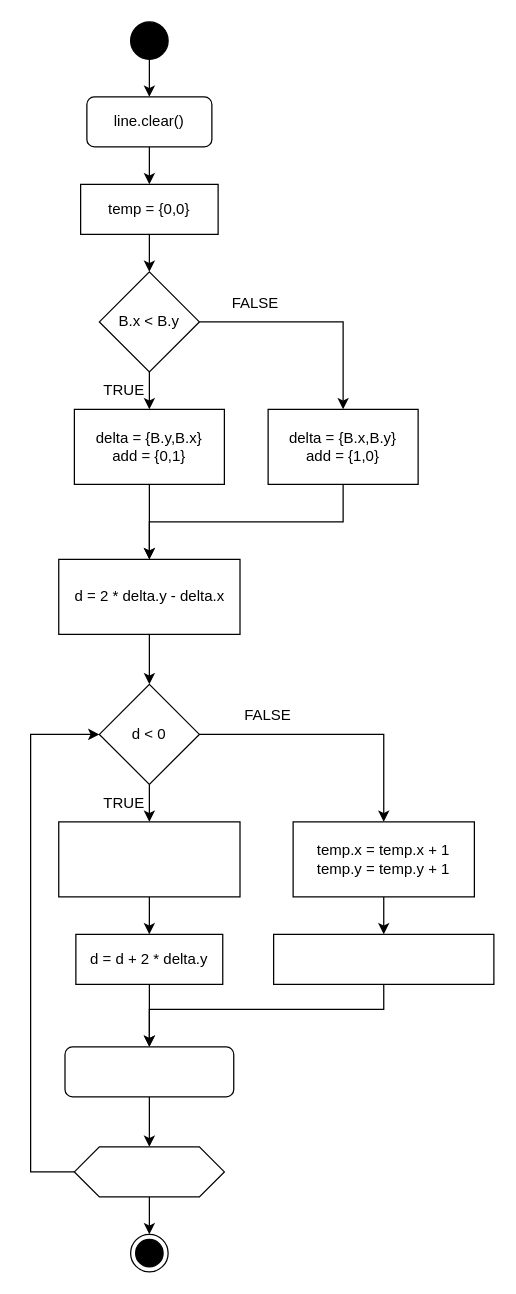
Some shapes in this 516 by 1294 pixel diagram are drawn without their labels. The box of each missing label's shape, as (x1, y1, x2, y2) in pixels:
d = d + 2 * delta.y - 2 * delta.x: (272, 933, 494, 984)
line.push_back(temp): (64, 1046, 234, 1097)
temp != B: (73, 1146, 224, 1197)
temp.x = temp.x + add.x temp.y = temp.y + add.y: (58, 821, 240, 897)
